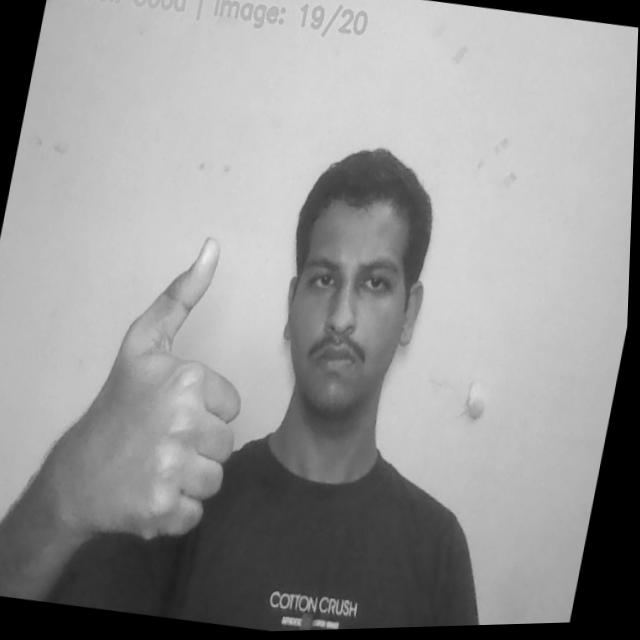Good: (81, 222, 274, 562)
